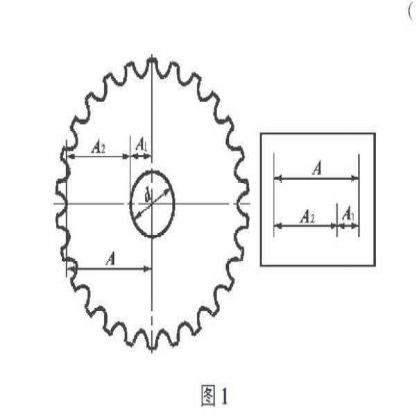FOD: (53, 52, 251, 355)
